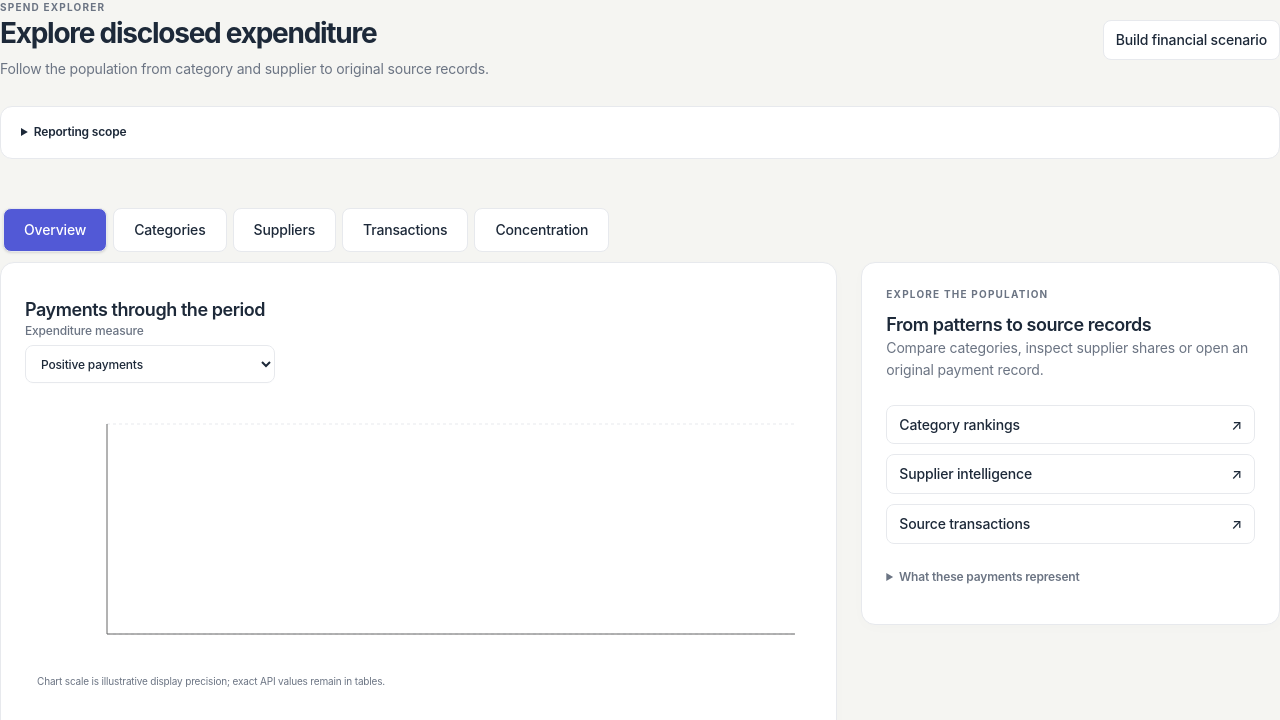
Test: renders transaction detail from original source_values rather than assuming typed fields
This screenshot has width=1280, height=720.
Click the tab "Transactions". click: (405, 230)
box: [342,208,468,252]
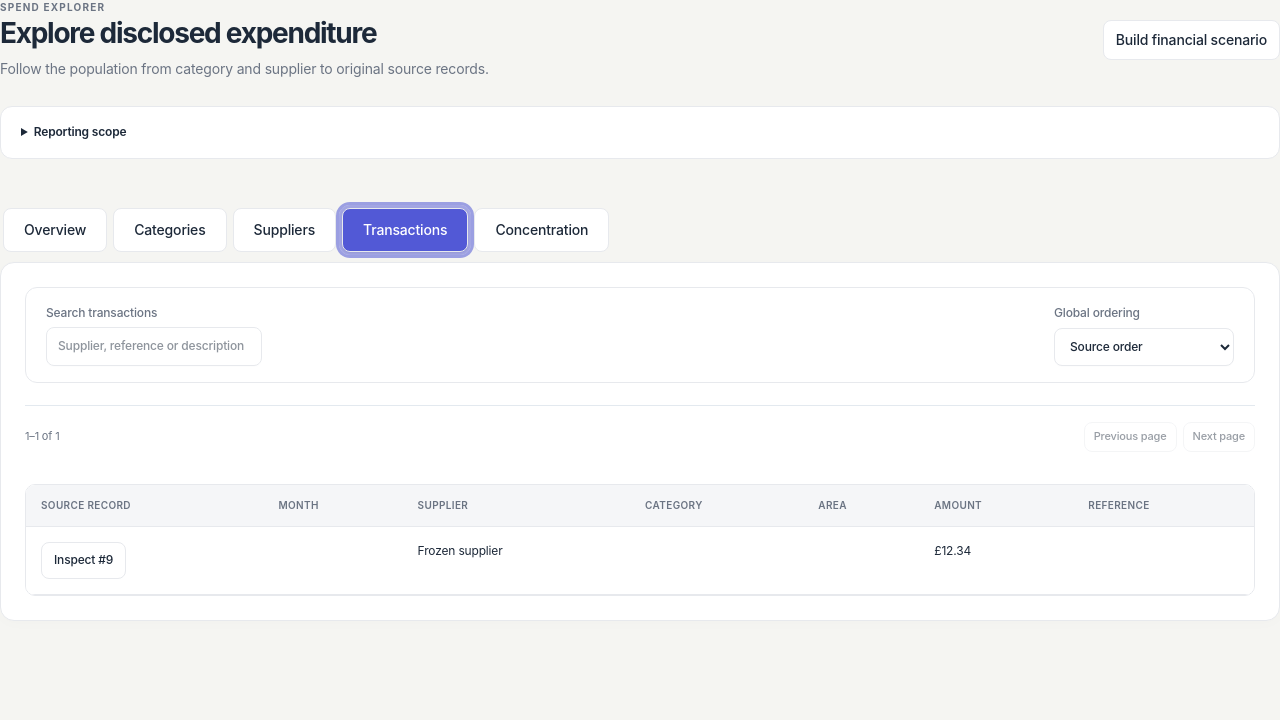
Click the button "Inspect #9". click: (84, 561)
box: [41,542,126,579]
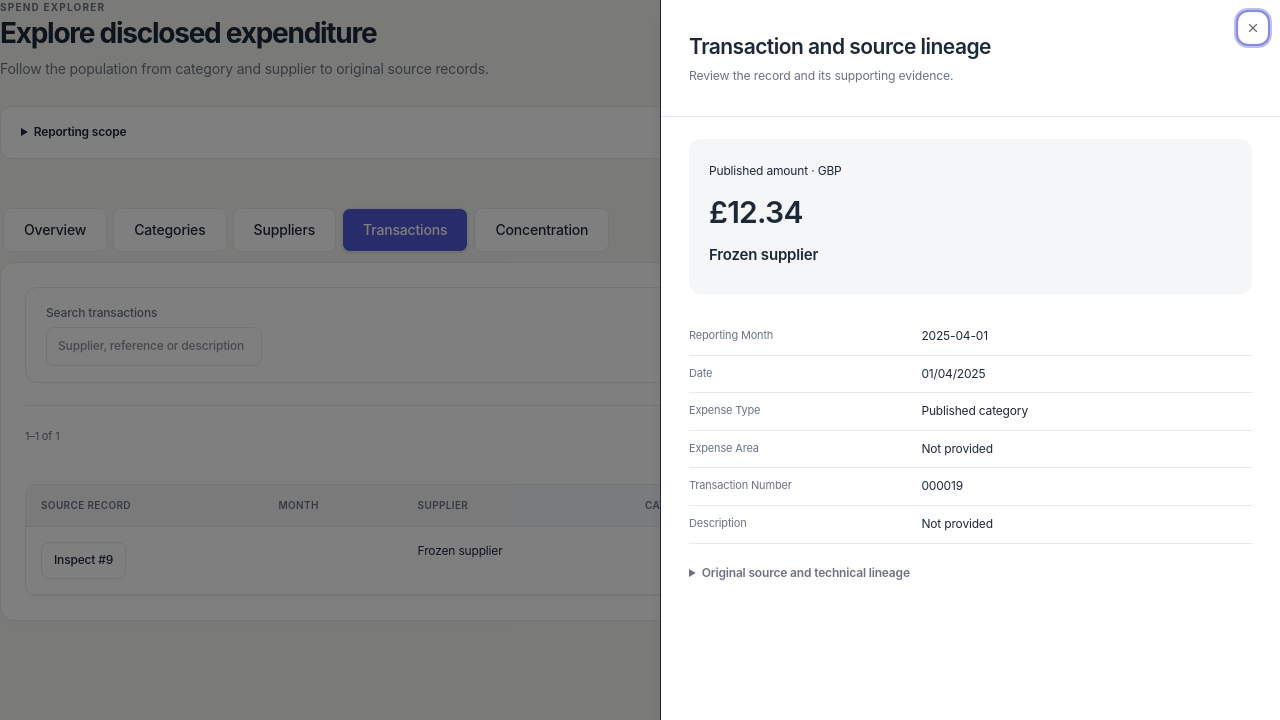
Expected: the heading "Frozen supplier" is shown, [709,245,818,264]
Expected: the text "000019" is shown, [921,478,963,494]
Expected: the text "Published category" is shown, [921,403,1028,418]
